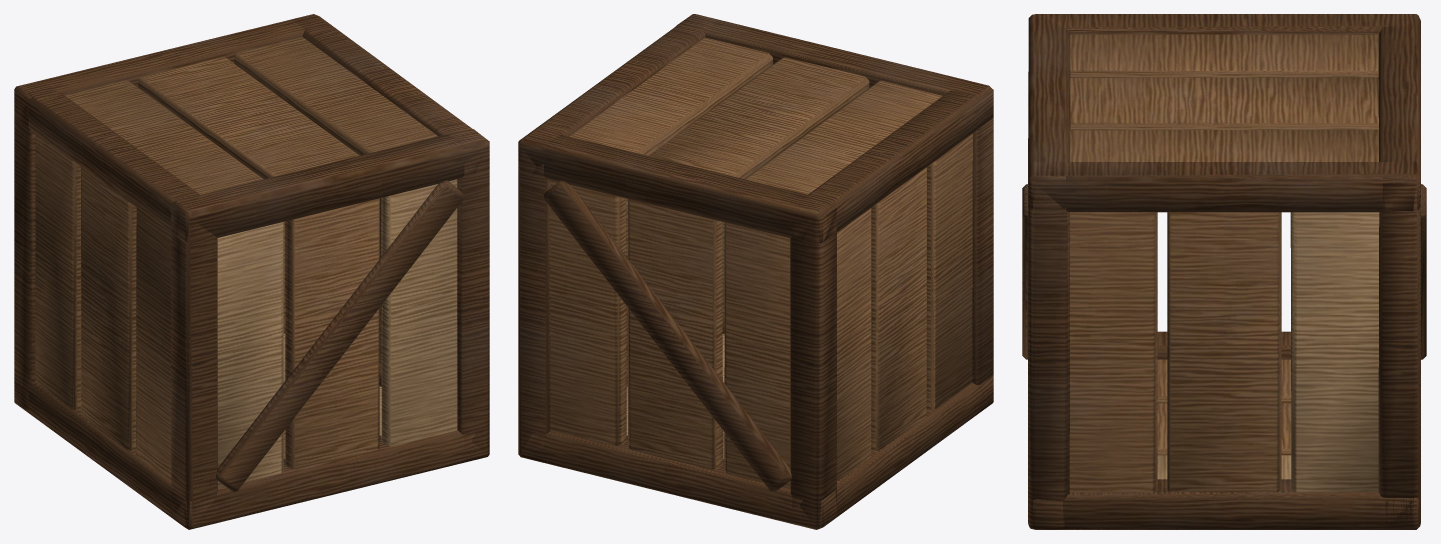
File: crate.glb
3 renders of one model, left to right at view 1: azimuth 30°, elevation 25°; view 2: azimuth 150°, elevation 25°; view 3: azimuth 270°, elevation 25°, orthographic. The views are drawn at different scales.
Visible parts, largest first — view 1: crate_Wood_Dark, crate_Wood_Plank, crate_Wood_Light; view 2: crate_Wood_Plank, crate_Wood_Dark; view 3: crate_Wood_Plank, crate_Wood_Dark, crate_Wood_Light.
Boxes of the visible parts, box(x1,y1,x2,y2) form: crate_Wood_Dark: box(14, 14, 489, 529); crate_Wood_Plank: box(35, 37, 437, 481); crate_Wood_Light: box(217, 179, 457, 488); crate_Wood_Plank: box(550, 37, 972, 488); crate_Wood_Dark: box(518, 14, 993, 529); crate_Wood_Plank: box(1069, 34, 1378, 492); crate_Wood_Dark: box(1022, 14, 1426, 529); crate_Wood_Light: box(1157, 212, 1379, 492).
Size of the model in its own units: 0.92 by 0.92 by 0.9462.
3 materials, 3 textured.
